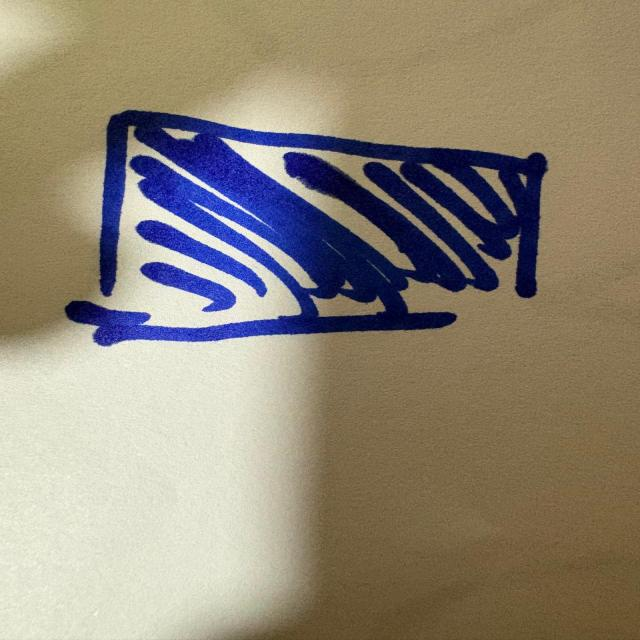Rectangle: (60, 97, 569, 365)
